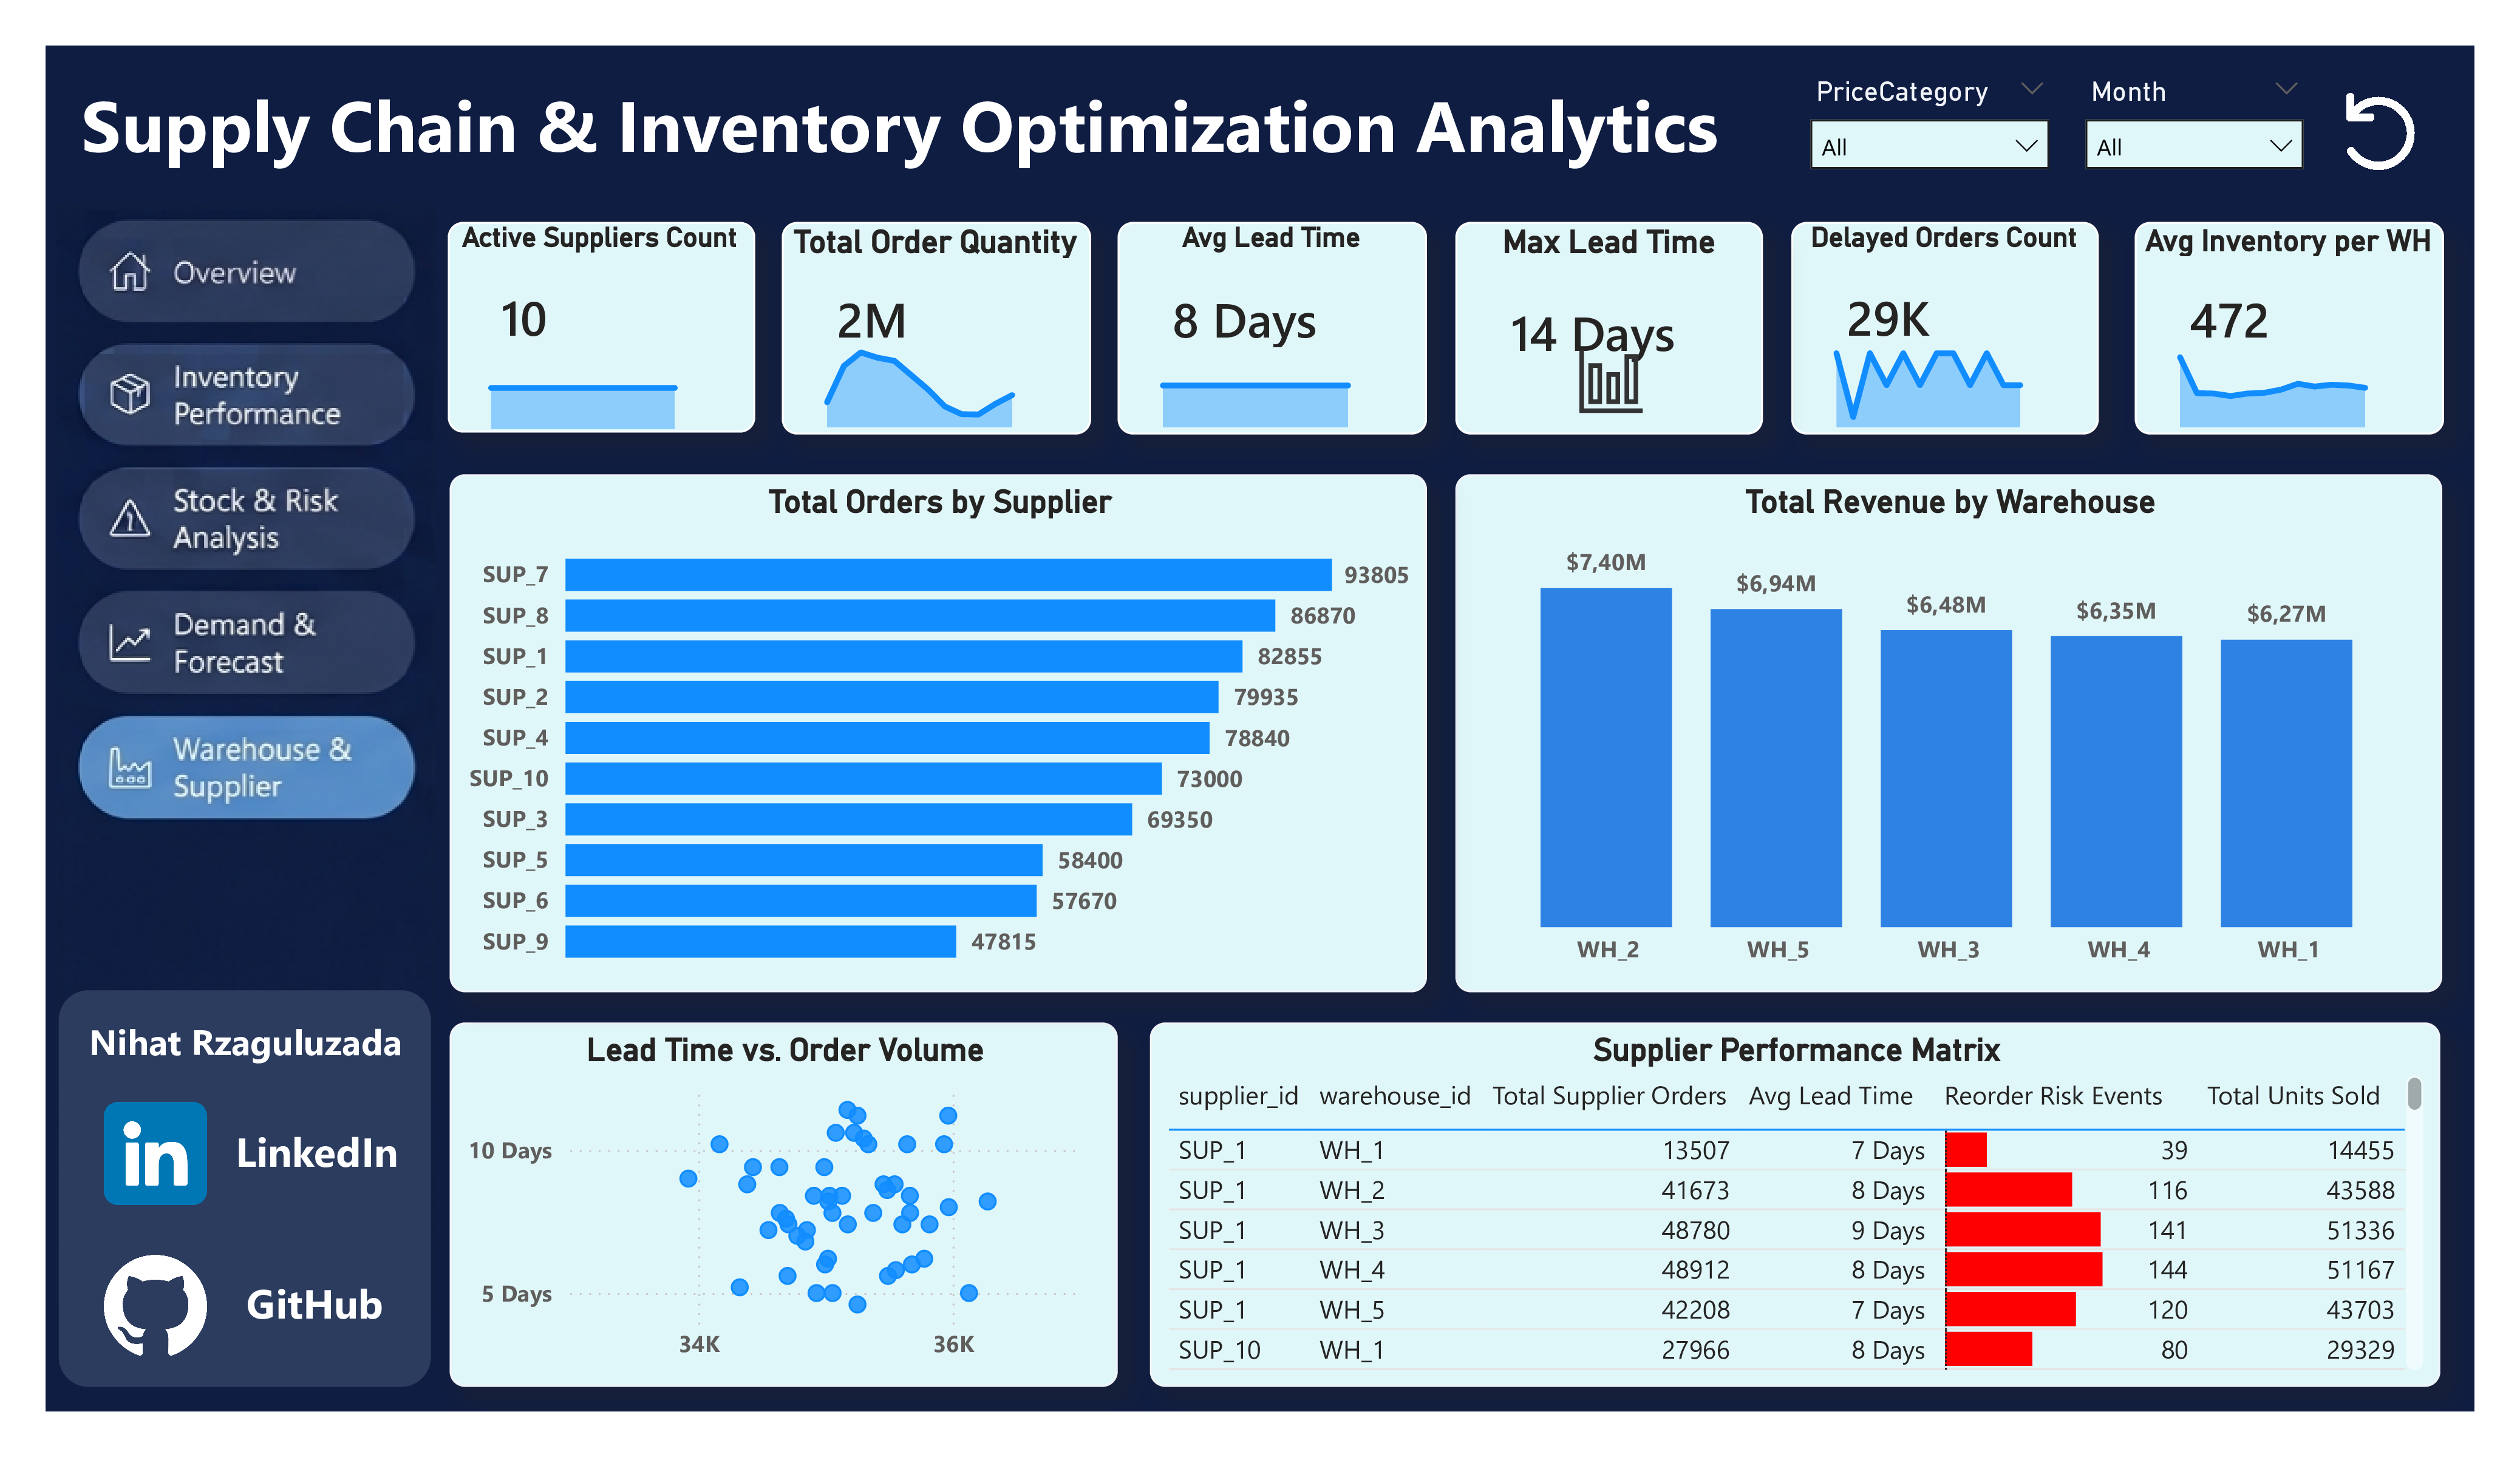

This screenshot's page, from the dashboard's own definition file:
{"tool":"powerbi","page":{"name":"Warehoues & Supplier","canvas":[1280,720],"ordinal":4},"visuals":[{"type":"image","box":[6.3,84.4,198.3,581.1],"z":0},{"type":"scatterChart","title":"Lead Time vs. Order Volume","fields":{"X":["_Measures.Total Order Quantity"],"Y":["_Measures.Avg Lead Time"],"Category":["fact_inventory_daily.sku_id"]},"box":[213.1,514.7,352.3,192],"z":1000},{"type":"clusteredColumnChart","title":"Total Revenue by Warehouse","fields":{"Category":["fact_inventory_daily.warehouse_id"],"Y":["_Measures.Total Revenue"]},"box":[743.1,226,519.6,273.1],"z":2000},{"type":"lineChart","fields":{"Y":["_Measures.Total Profit"],"Category":["dim_date.month"]},"box":[391.5,136.5,161.9,65.2],"z":3000},{"type":"shape","box":[211.6,92.9,162.1,111.5],"z":4000},{"type":"cardVisual","title":"Active Suppliers Count","fields":{"Data":["_Measures.Active Suppliers Count"]},"box":[210.9,92.8,162.4,81.2],"z":5000},{"type":"lineChart","fields":{"Category":["dim_date.month"],"Y":["_Measures.Active Suppliers Count"]},"box":[210.9,145.5,162.4,61.2],"z":6000},{"type":"shape","box":[388.1,92.8,162.4,111.8],"z":7000},{"type":"shape","box":[565.3,92.8,162.4,111.8],"z":8000},{"type":"shape","box":[919.7,92.8,162.4,111.8],"z":9000},{"type":"shape","box":[742.5,92.8,162.4,111.8],"z":10000},{"type":"cardVisual","title":"Total Order Quantity","fields":{"Data":["_Measures.Total Order Quantity"]},"box":[387.9,93,161.9,81],"z":11000},{"type":"lineChart","fields":{"Category":["dim_date.month"],"Y":["_Measures.Total Order Quantity"]},"box":[388.1,144.5,162.4,61.2],"z":12000},{"type":"cardVisual","title":"Avg Lead Time","fields":{"Data":["_Measures.Avg Lead Time"]},"box":[565.5,93,161.9,83.4],"z":14000},{"type":"cardVisual","title":"Max Lead Time","fields":{"Data":["_Measures.Max Lead Time Days"]},"box":[743.1,93,161.9,94.2],"z":15000},{"type":"lineChart","fields":{"Category":["dim_date.month"],"Y":["_Measures.Max Lead Time Days"]},"box":[743.6,146.6,161.4,60.1],"z":16000},{"type":"cardVisual","title":"Delayed Orders Count","fields":{"Data":["_Measures.Delayed Orders Count"]},"box":[919.5,93,161.9,81],"z":17000},{"type":"lineChart","fields":{"Category":["dim_date.month"],"Y":["_Measures.Delayed Orders Count"]},"box":[919.7,144.5,162.4,61.2],"z":18000},{"type":"shape","box":[1101.3,93.1,162.4,111.8],"z":19000},{"type":"cardVisual","title":"Avg Inventory per WH","fields":{"Data":["_Measures.Avg Inventory per WH"]},"box":[1101.1,93.4,161.9,81],"z":20000},{"type":"lineChart","fields":{"Category":["dim_date.month"],"Y":["_Measures.Avg Inventory per WH"]},"box":[1101.1,144.5,162.4,61.2],"z":21000},{"type":"clusteredBarChart","title":"Total Orders by Supplier","fields":{"Y":["Sum(fact_inventory_daily.supplier_lead_time_days)"],"Category":["fact_inventory_daily.supplier_id"]},"box":[213.1,225.7,514.7,273.2],"z":22000},{"type":"tableEx","title":"Supplier Performance Matrix","fields":{"Values":["fact_inventory_daily.supplier_id","fact_inventory_daily.warehouse_id","_Measures.Total Supplier Orders","_Measures.Avg Lead Time","_Measures.Reorder Risk Events","_Measures.Total Units Sold"]},"box":[582.2,514.7,680.3,192],"z":23000},{"type":"shape","box":[16.9,160.3,178.2,51.7],"z":24000},{"type":"shape","box":[16.9,223,178.2,53.8],"z":25000},{"type":"shape","box":[16.9,287,178.2,53.8],"z":26000},{"type":"shape","box":[16.9,353,178.2,53.8],"z":27000},{"type":"shape","box":[15.8,90.7,178.2,55.9],"z":28000},{"type":"textbox","box":[13.7,10.5,891.2,82.3],"z":29000},{"type":"shape","box":[7.2,497.8,195.7,209],"z":30000},{"type":"shape","box":[66.5,685.1,23,23],"z":31000},{"type":"image","box":[27.8,636.8,60.4,54.4],"z":32000},{"type":"image","box":[26.6,557,61.6,54.4],"z":33000},{"type":"textbox","box":[18.1,507.5,177.6,41.1],"z":34000},{"type":"textbox","box":[95.5,563.1,105.1,42.3],"z":35000},{"type":"textbox","box":[101.5,642.8,95.5,42.3],"z":36000},{"type":"lineChart","fields":{"Category":["dim_date.month"],"Y":["_Measures.Avg Lead Time"]},"box":[565.3,144.5,162.4,61.2],"z":39500},{"type":"slicer","fields":{"Values":["dim_date.month"]},"box":[1065.3,10.5,135,70.7],"z":39501},{"type":"slicer","fields":{"Values":["fact_inventory_daily.Price Category"]},"box":[919.5,10.9,146.2,70.1],"z":39502},{"type":"image","box":[1199.2,21.1,60.1,50.6],"z":39503}]}

Visuals, with their boxes on the page's 1280x720 design canvas (x1, y1, x2, y2). These are canvas units, not pixel positions in the 2520x1457 screenshot, which may show the page scaled, cropped or inside an application window:
image: l=6, t=84, r=205, b=666
"Lead Time vs. Order Volume" scatterChart: l=213, t=515, r=565, b=707
"Total Revenue by Warehouse" clusteredColumnChart: l=743, t=226, r=1263, b=499
lineChart - _Measures.Total Profit x dim_date.month: l=392, t=136, r=553, b=202
shape: l=212, t=93, r=374, b=204
"Active Suppliers Count" cardVisual: l=211, t=93, r=373, b=174
lineChart - dim_date.month x _Measures.Active Suppliers Count: l=211, t=146, r=373, b=207
shape: l=388, t=93, r=550, b=205
shape: l=565, t=93, r=728, b=205
shape: l=920, t=93, r=1082, b=205
shape: l=742, t=93, r=905, b=205
"Total Order Quantity" cardVisual: l=388, t=93, r=550, b=174
lineChart - dim_date.month x _Measures.Total Order Quantity: l=388, t=144, r=550, b=206
"Avg Lead Time" cardVisual: l=566, t=93, r=727, b=176
"Max Lead Time" cardVisual: l=743, t=93, r=905, b=187
lineChart - dim_date.month x _Measures.Max Lead Time Days: l=744, t=147, r=905, b=207
"Delayed Orders Count" cardVisual: l=920, t=93, r=1081, b=174
lineChart - dim_date.month x _Measures.Delayed Orders Count: l=920, t=144, r=1082, b=206
shape: l=1101, t=93, r=1264, b=205
"Avg Inventory per WH" cardVisual: l=1101, t=93, r=1263, b=174
lineChart - dim_date.month x _Measures.Avg Inventory per WH: l=1101, t=144, r=1264, b=206
"Total Orders by Supplier" clusteredBarChart: l=213, t=226, r=728, b=499
"Supplier Performance Matrix" tableEx: l=582, t=515, r=1262, b=707
shape: l=17, t=160, r=195, b=212
shape: l=17, t=223, r=195, b=277
shape: l=17, t=287, r=195, b=341
shape: l=17, t=353, r=195, b=407
shape: l=16, t=91, r=194, b=147
textbox: l=14, t=10, r=905, b=93
shape: l=7, t=498, r=203, b=707
shape: l=66, t=685, r=90, b=708
image: l=28, t=637, r=88, b=691
image: l=27, t=557, r=88, b=611
textbox: l=18, t=508, r=196, b=549
textbox: l=96, t=563, r=201, b=605
textbox: l=102, t=643, r=197, b=685
lineChart - dim_date.month x _Measures.Avg Lead Time: l=565, t=144, r=728, b=206
slicer - dim_date.month: l=1065, t=10, r=1200, b=81
slicer - fact_inventory_daily.Price Category: l=920, t=11, r=1066, b=81
image: l=1199, t=21, r=1259, b=72
